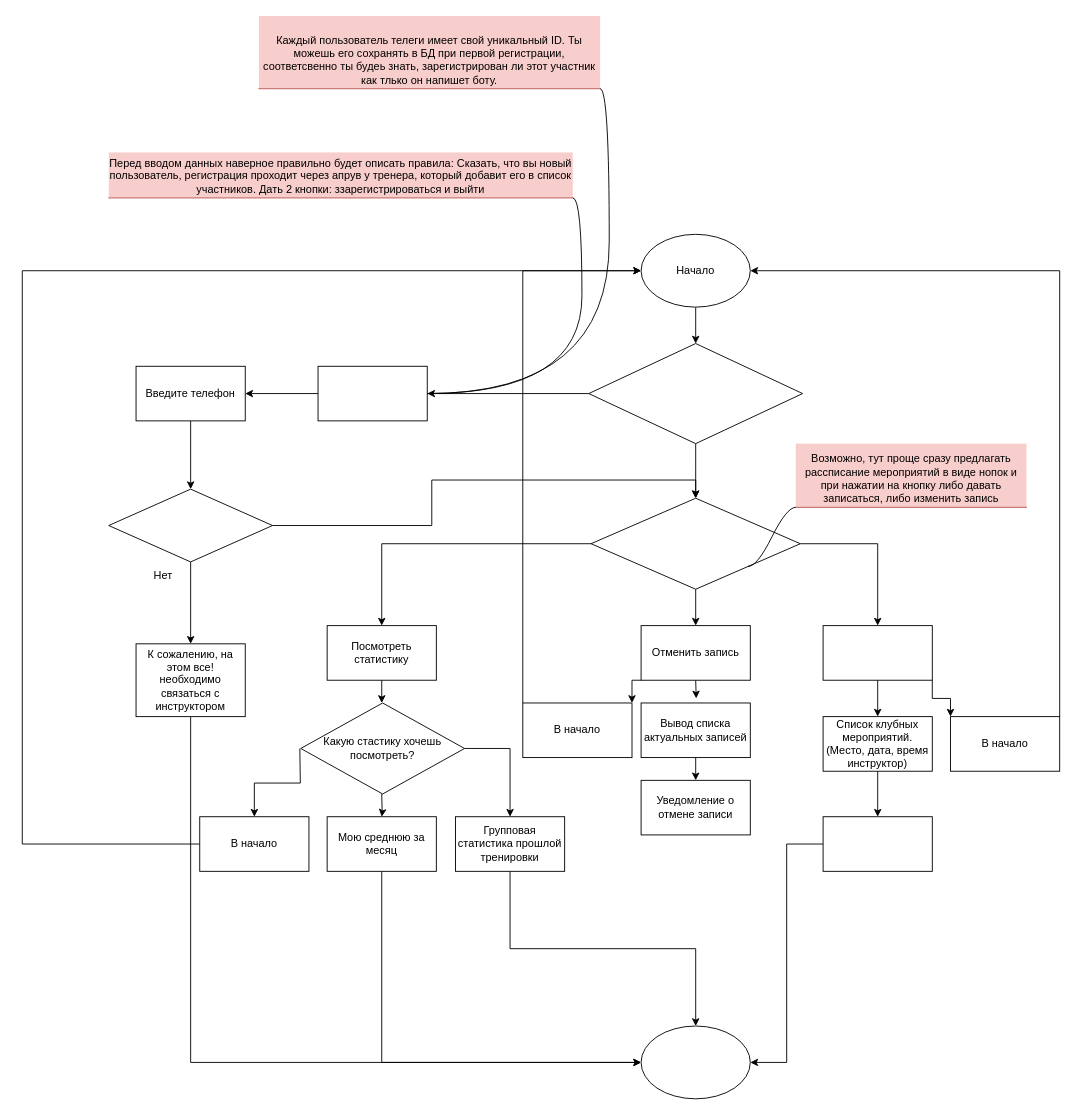
Some shapes in this 1083 by 1115 pixel diagram are drawn without their labels. Here are the shapes that lost their labels. From the top down, the box of each, then its label:
(317, 365, 427, 421): Введите имя
(588, 343, 803, 444): Проверка по ID в списке участников
(108, 488, 273, 562): Участник есть в списках?
(590, 497, 800, 589): Привет, стрелок! (% Username %) что ты хочешь ?
(822, 625, 932, 680): Записаться на тренировку
(822, 816, 932, 871): Уведомление о подтверждении записи
(640, 1025, 750, 1099): Конец
